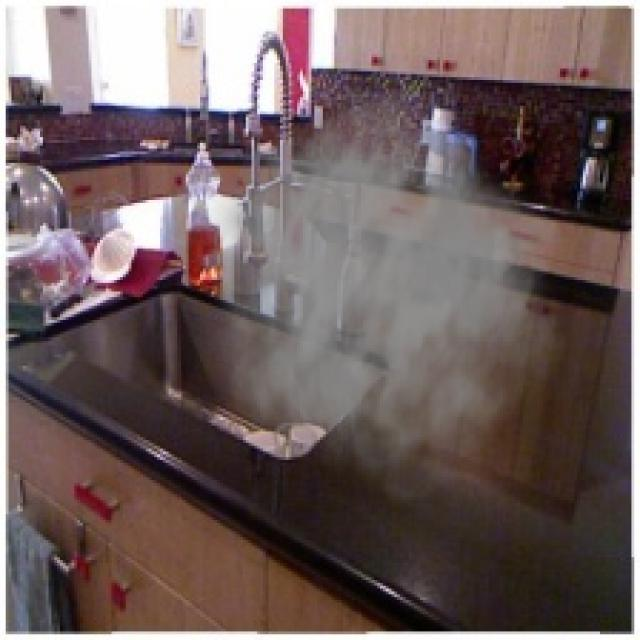smoke: (200, 91, 574, 508)
